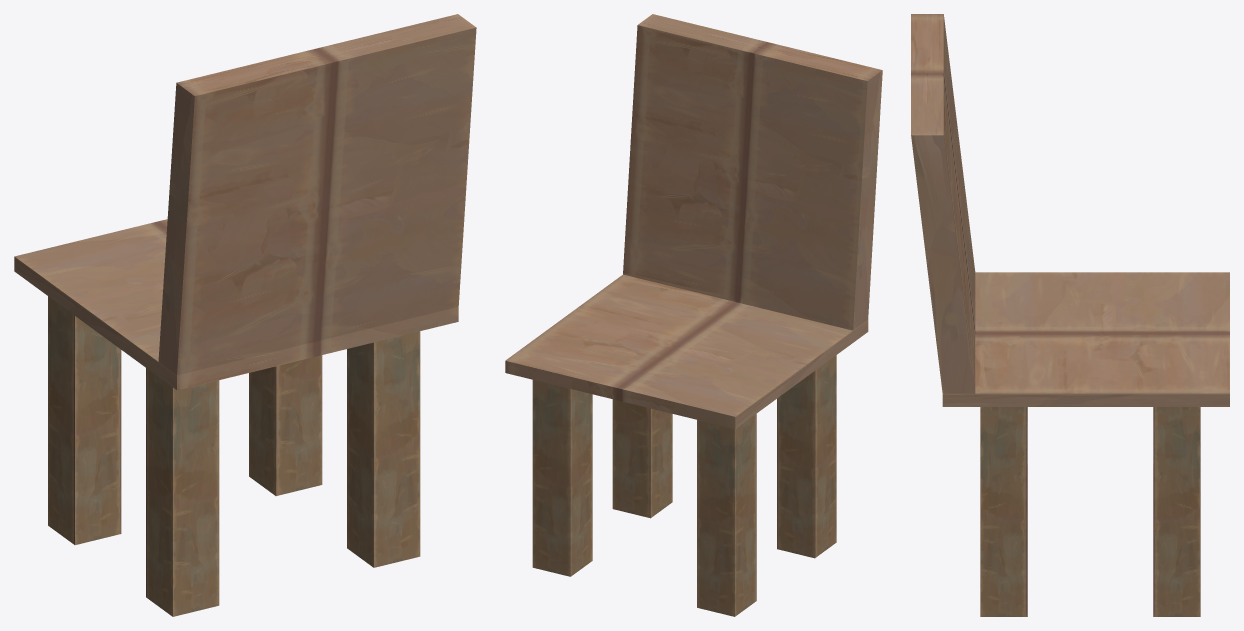
The model's file is Chair.fbx.
The picture shows the model from 3 angles, left to right: view 1: azimuth 30°, elevation 25°; view 2: azimuth 150°, elevation 25°; view 3: azimuth 270°, elevation 25°; orthographic projection. The views are drawn at different scales.
Visible parts, largest first — view 1: Chair_mesh; view 2: Chair_mesh; view 3: Chair_mesh.
Boxes of the visible parts, <box> form: Chair_mesh: <box>14,14,476,616</box>; Chair_mesh: <box>505,14,882,616</box>; Chair_mesh: <box>911,14,1229,616</box>.
Bounding box in the file's own units: 56.05 × 105 × 62.21.
